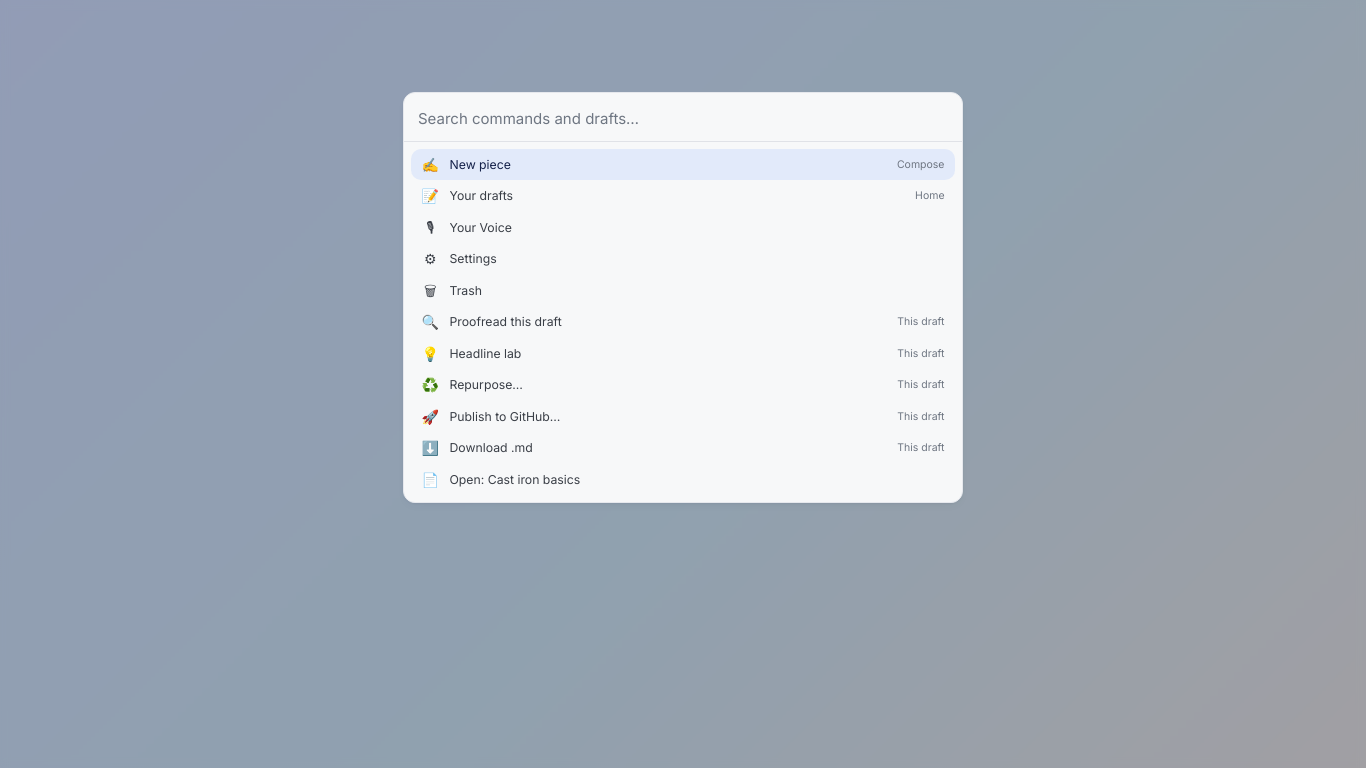
Test case: CommandPalette › keeps the editor open and reports an authenticated download failure
Click the text "Download .md" at [491, 448], box left=450, top=440, right=533, bottom=455
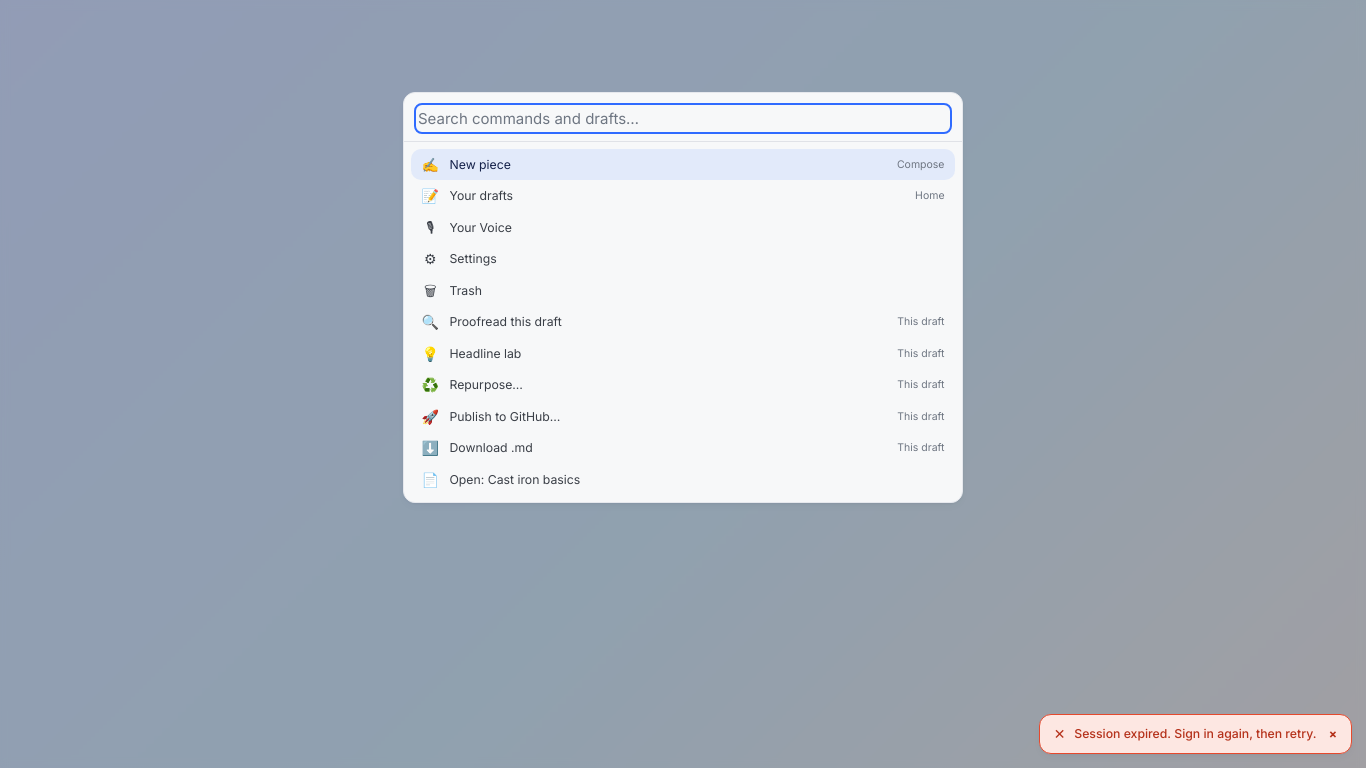
Expected: the dialog named "Command palette" is shown, left=403, top=92, right=963, bottom=504
Expected: the text "Session expired. Sign in again, then retry." is shown, left=1074, top=725, right=1316, bottom=742
